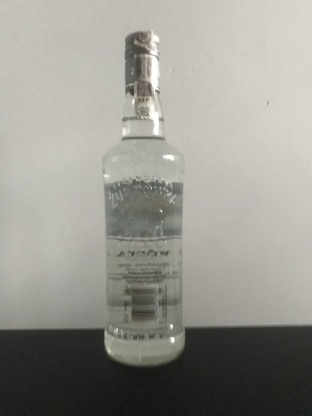nakretka: (122, 27, 162, 95)
